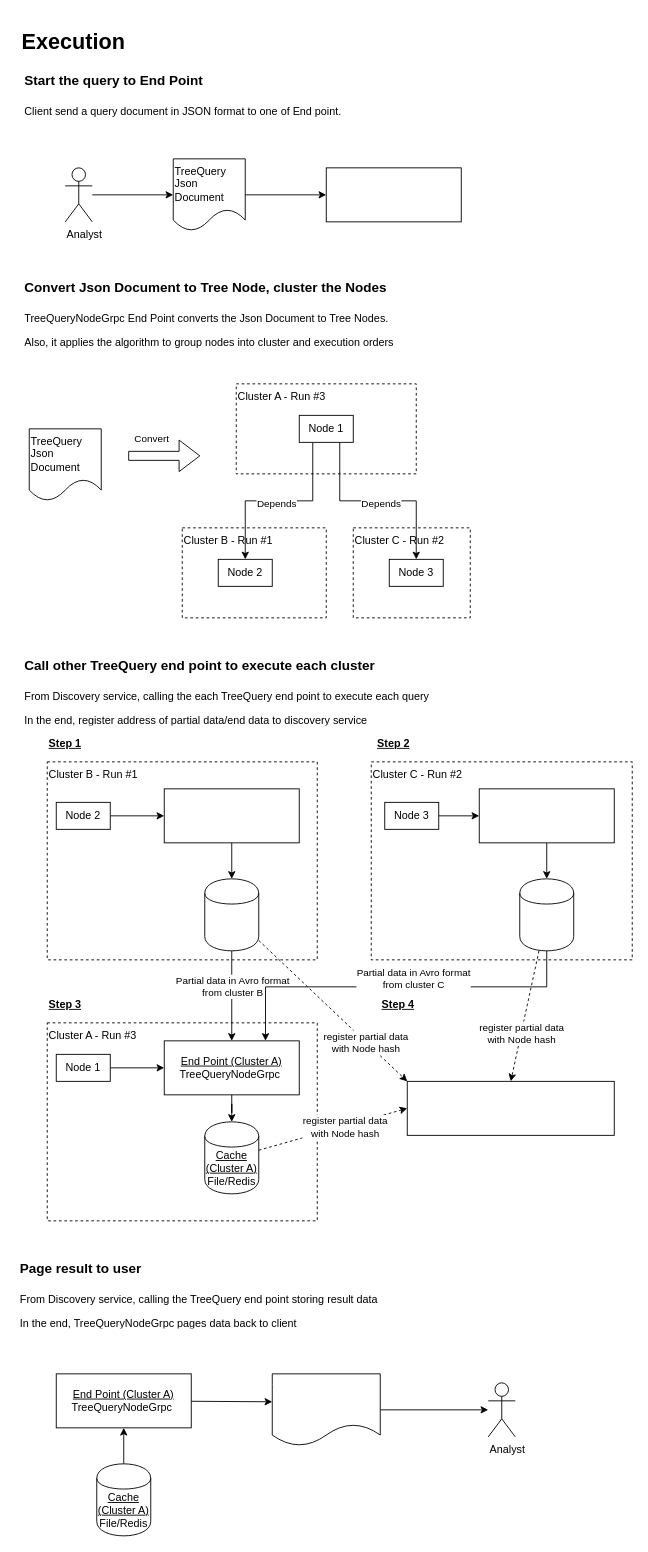
Some shapes in this 648 by 1552 pixel diagram are drawn without their labels. Here are the shapes that lost their labels. From the top down, the box of each, then its label:
(325, 167, 461, 222): End Point TreeQueryNodeGrpc
(163, 788, 299, 843): End Point (ClusterB) TreeQueryNodeGrpc
(478, 788, 614, 843): End Point (Cluster C) TreeQueryNodeGrpc
(204, 878, 259, 951): Cache (Cluster B) File/Redis
(519, 878, 574, 951): Cache (Cluster C) File/Redis
(406, 1080, 614, 1135): Discovery Service Register the location of Cache data with address
(271, 1373, 380, 1446): Paged result
